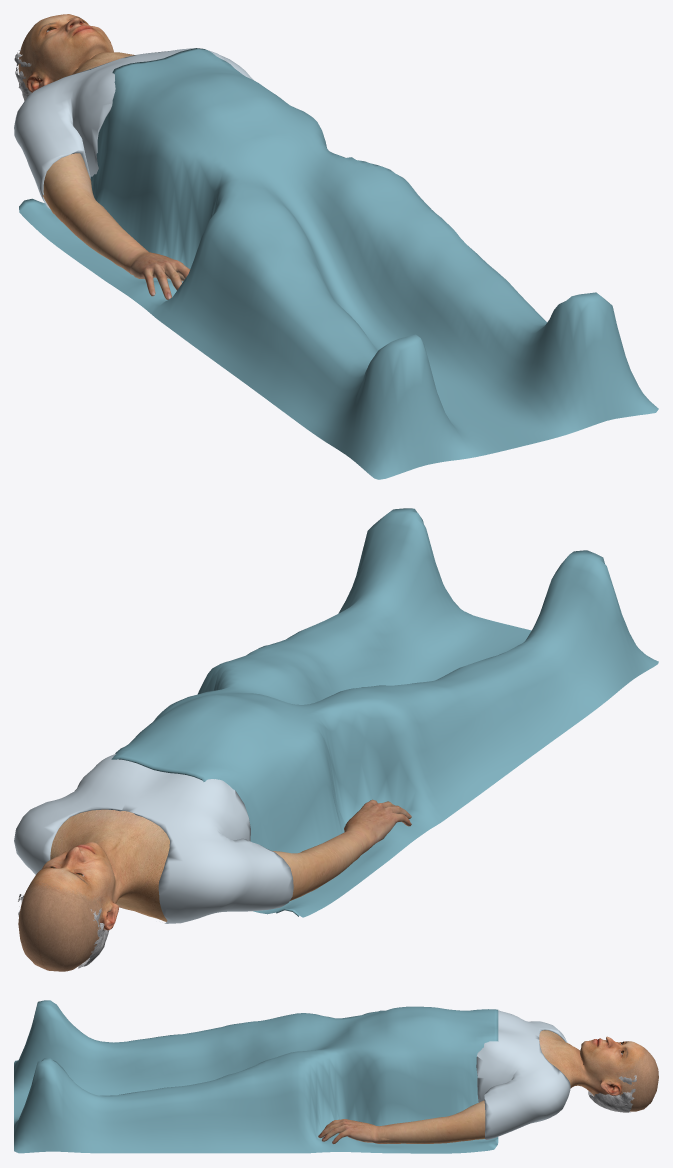
3 renders of one model, top to bottom at view 1: azimuth 30°, elevation 25°; view 2: azimuth 150°, elevation 25°; view 3: azimuth 270°, elevation 25°, orthographic. The views are drawn at different scales.
Parts seen in each view (by area): view 1: sheet, gown, arms, body; view 2: sheet, gown, body, arms; view 3: sheet, gown, body, arms, hair.
Boxes of the visible parts, x1,y1,x2,y2 form: sheet: (19, 48, 658, 479); gown: (14, 48, 253, 208); arms: (42, 153, 190, 299); body: (18, 14, 134, 92); sheet: (111, 508, 658, 917); gown: (14, 754, 293, 923); body: (18, 809, 169, 971); arms: (273, 799, 411, 900); sheet: (14, 1000, 498, 1153); gown: (476, 1010, 570, 1139); body: (539, 1030, 658, 1111); arms: (318, 1100, 485, 1144); hair: (588, 1075, 636, 1112).
Bounding box in the file's own units: 0.6435 × 0.3027 × 1.88.
8 materials, 6 textured.
